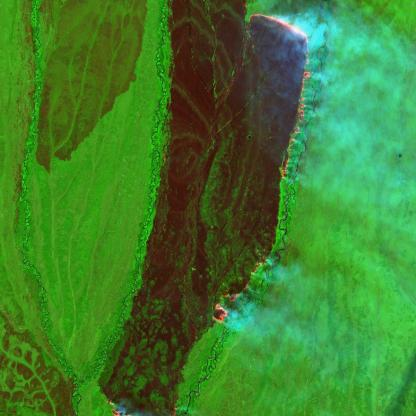fire: (212, 0, 313, 343), (104, 393, 180, 416)
